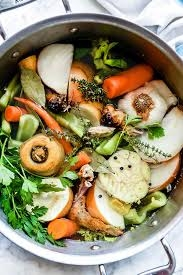kitchen_waste: (11, 92, 74, 154), (97, 148, 156, 205), (30, 41, 80, 98), (130, 104, 183, 156), (27, 173, 77, 224), (99, 59, 158, 101), (114, 85, 171, 128), (16, 133, 72, 175), (43, 214, 84, 242)
